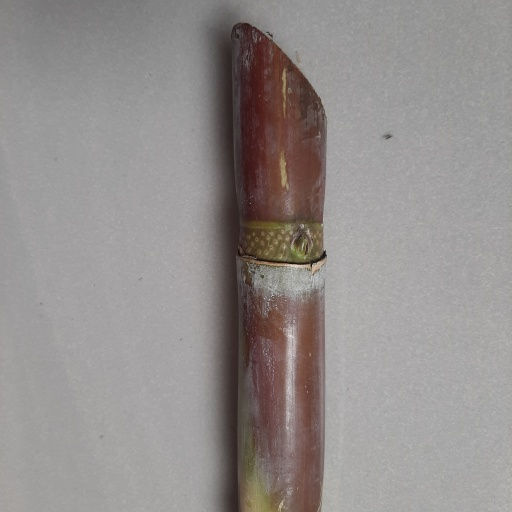Bud: (289, 228, 315, 259)
